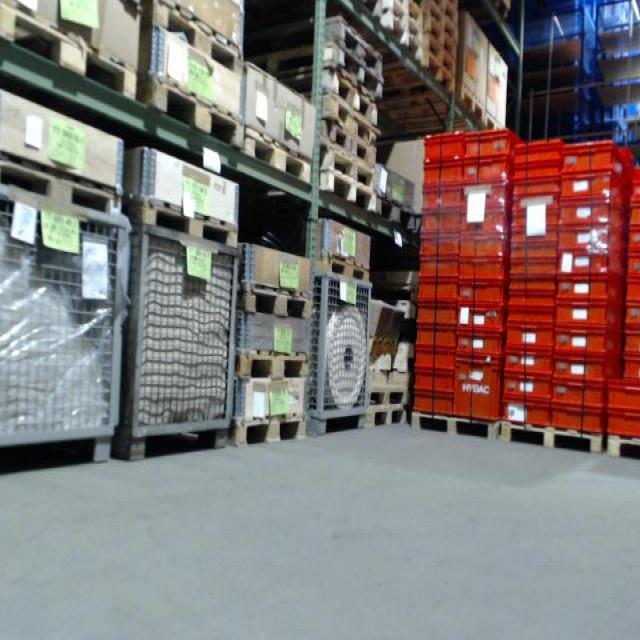pallet: (136, 74, 245, 154), (138, 0, 246, 80), (0, 153, 124, 219), (120, 192, 241, 253), (240, 124, 313, 190), (497, 420, 604, 456), (230, 408, 309, 448), (408, 410, 500, 443), (232, 346, 311, 383), (235, 284, 313, 320), (322, 95, 380, 143), (330, 17, 383, 69), (323, 74, 381, 120), (329, 44, 384, 91), (322, 173, 374, 213), (316, 249, 371, 284), (325, 128, 377, 165), (374, 190, 417, 234), (383, 13, 422, 59), (320, 152, 373, 184), (387, 1, 425, 39), (456, 81, 486, 122), (424, 19, 458, 55), (425, 36, 457, 73), (425, 55, 456, 93), (602, 432, 640, 462), (367, 382, 408, 409), (428, 1, 456, 39), (366, 408, 409, 429), (484, 113, 501, 133), (399, 3, 421, 18)
small_load_carrier: (453, 358, 502, 426), (561, 141, 630, 178), (553, 301, 622, 331), (558, 200, 630, 227), (500, 317, 556, 351), (553, 252, 627, 277), (551, 330, 622, 356), (554, 227, 629, 251), (462, 180, 514, 214), (551, 356, 620, 381), (552, 408, 604, 440), (500, 351, 554, 380), (559, 178, 630, 200), (460, 206, 510, 237), (553, 382, 610, 408), (554, 280, 624, 301), (499, 403, 552, 429), (452, 333, 503, 360), (457, 278, 508, 305), (456, 233, 510, 258), (463, 157, 511, 185), (499, 379, 554, 403), (465, 127, 513, 153), (421, 132, 467, 159), (456, 258, 510, 281), (421, 159, 467, 185), (419, 205, 461, 233), (606, 377, 636, 414), (413, 325, 457, 350), (418, 233, 461, 257), (606, 411, 639, 442), (457, 306, 506, 326), (418, 257, 462, 279), (417, 280, 459, 303), (412, 392, 452, 416), (508, 214, 558, 233), (506, 298, 556, 317), (414, 303, 459, 324), (414, 350, 456, 371), (510, 265, 554, 284), (512, 153, 564, 169), (510, 184, 562, 200), (420, 185, 461, 205), (412, 371, 456, 389), (510, 248, 556, 265), (510, 200, 558, 214), (508, 233, 556, 247), (512, 169, 563, 180), (621, 359, 640, 387), (506, 284, 559, 294), (623, 331, 640, 357), (512, 143, 564, 150), (621, 306, 639, 326), (622, 280, 639, 301), (626, 252, 639, 277), (630, 227, 639, 251), (632, 164, 638, 200), (629, 204, 639, 224)
stillage: (2, 183, 138, 476), (124, 215, 241, 457), (302, 262, 373, 438)
